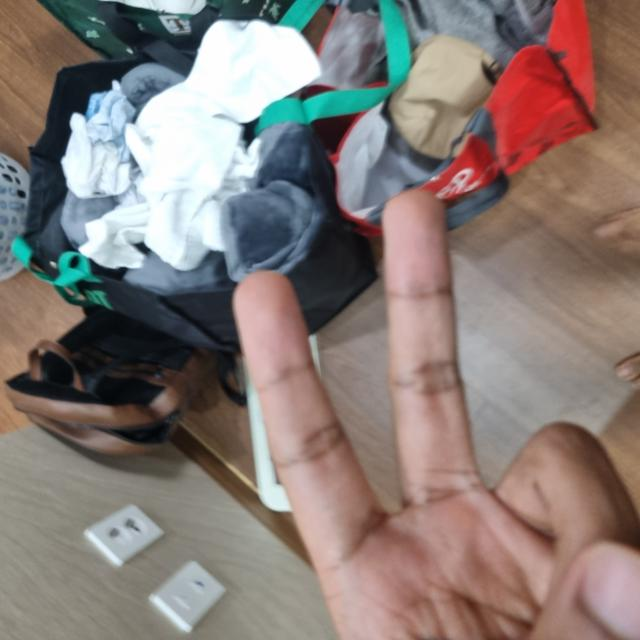Scissors: (0, 237, 452, 639)
